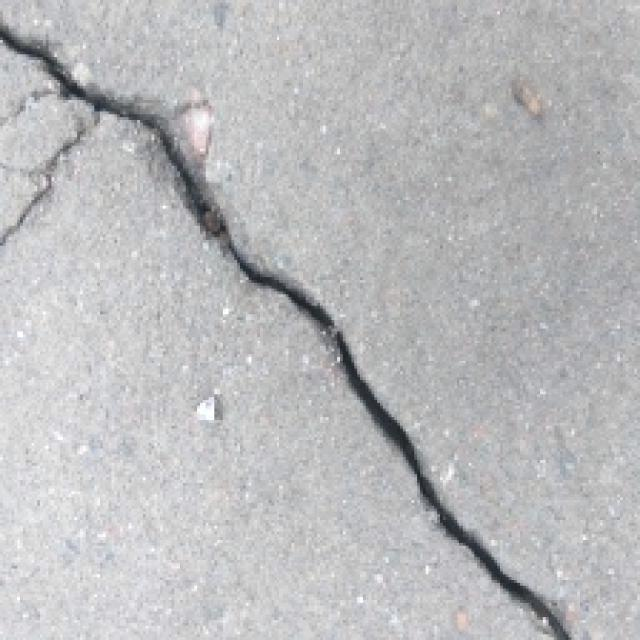SurfaceCrack: (0, 8, 580, 640)
